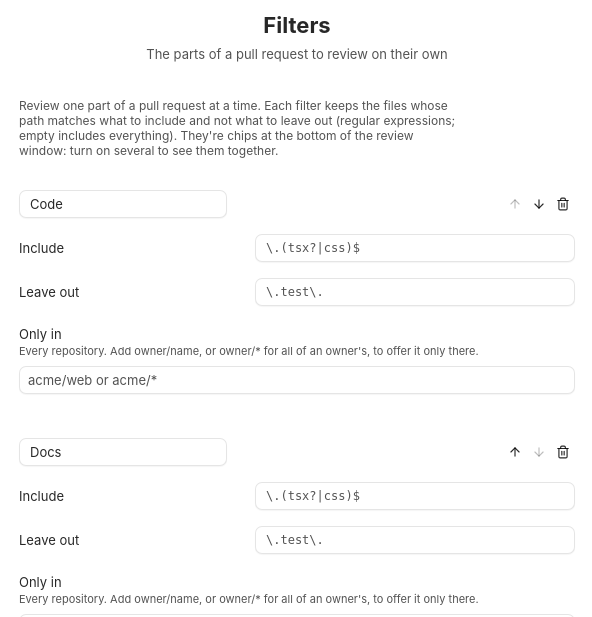
Test: Filters › renames a filter and edits its patterns, saying when one isn't a valid expression
Type "s" into the 1st field named "Filter name" at (123, 204), box [19,190,227,218]
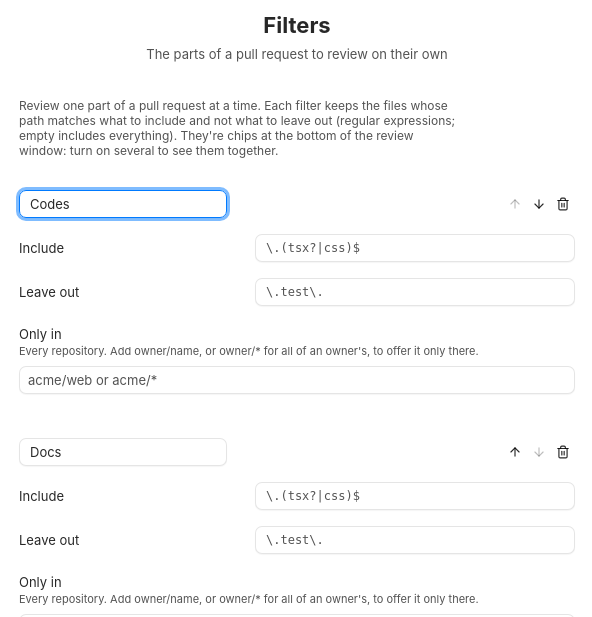
Type "\\.tsx?$" into the 1st field labelled "Include" at (415, 248), box [255,234,575,262]
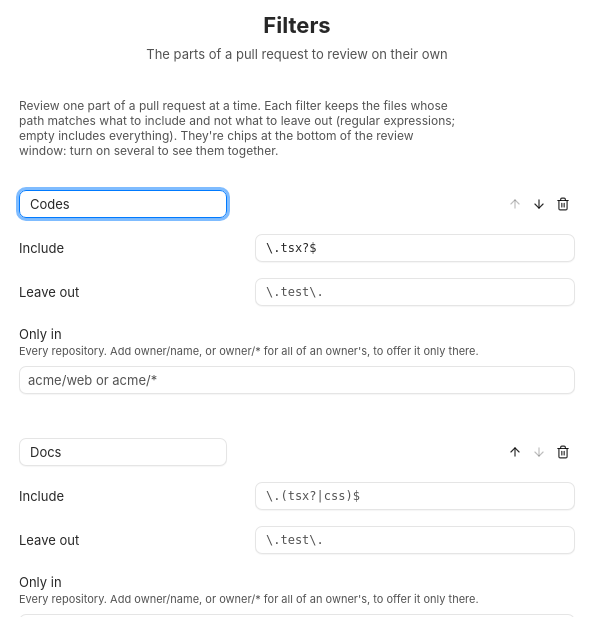
Expected: the text "Not a valid regular expression." is not shown
Type "(" into the 1st field labelled "Leave out" at (415, 292), box [255,278,575,306]
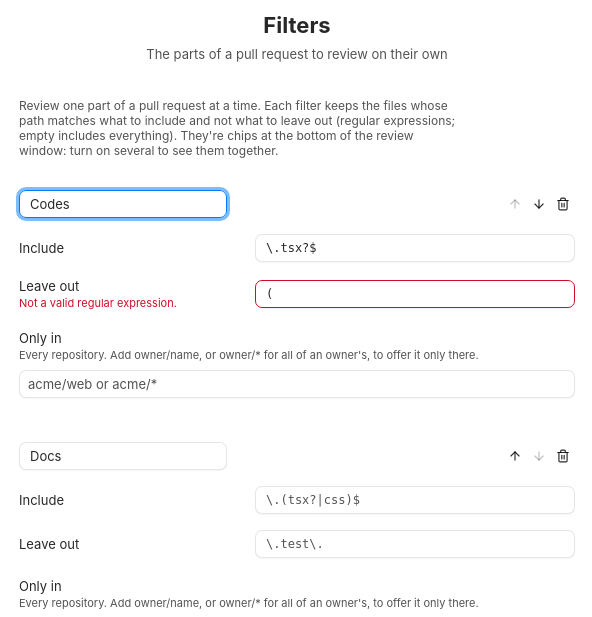
Expected: the text "Not a valid regular expression." is shown, [19,296,177,310]
